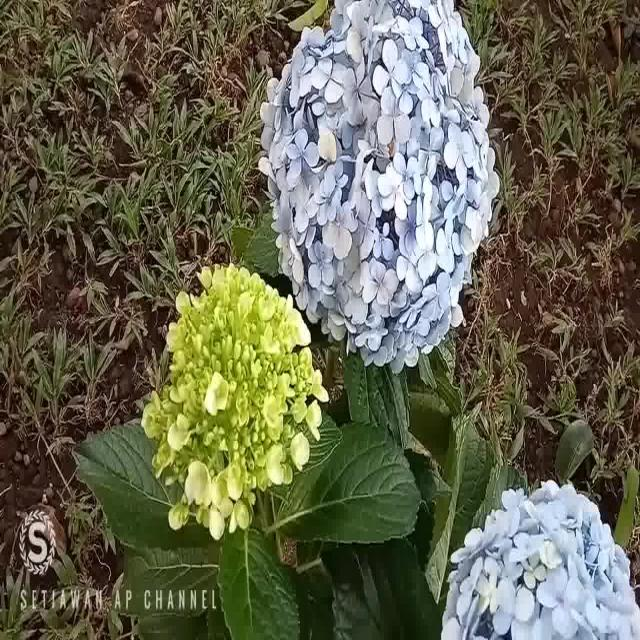Flower: (261, 1, 505, 375), (140, 249, 325, 551)
